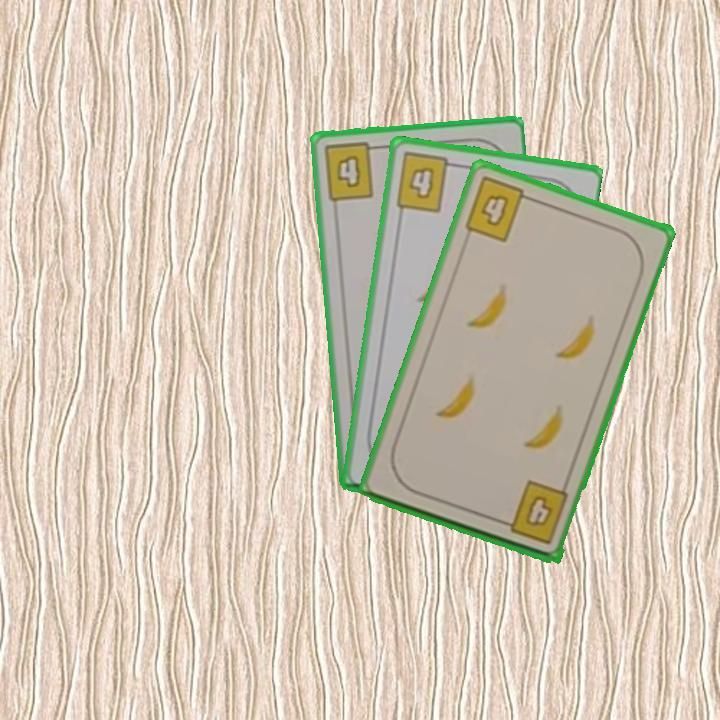4b: (460, 173, 537, 245), (495, 477, 571, 547), (392, 149, 461, 216), (319, 139, 384, 204)
